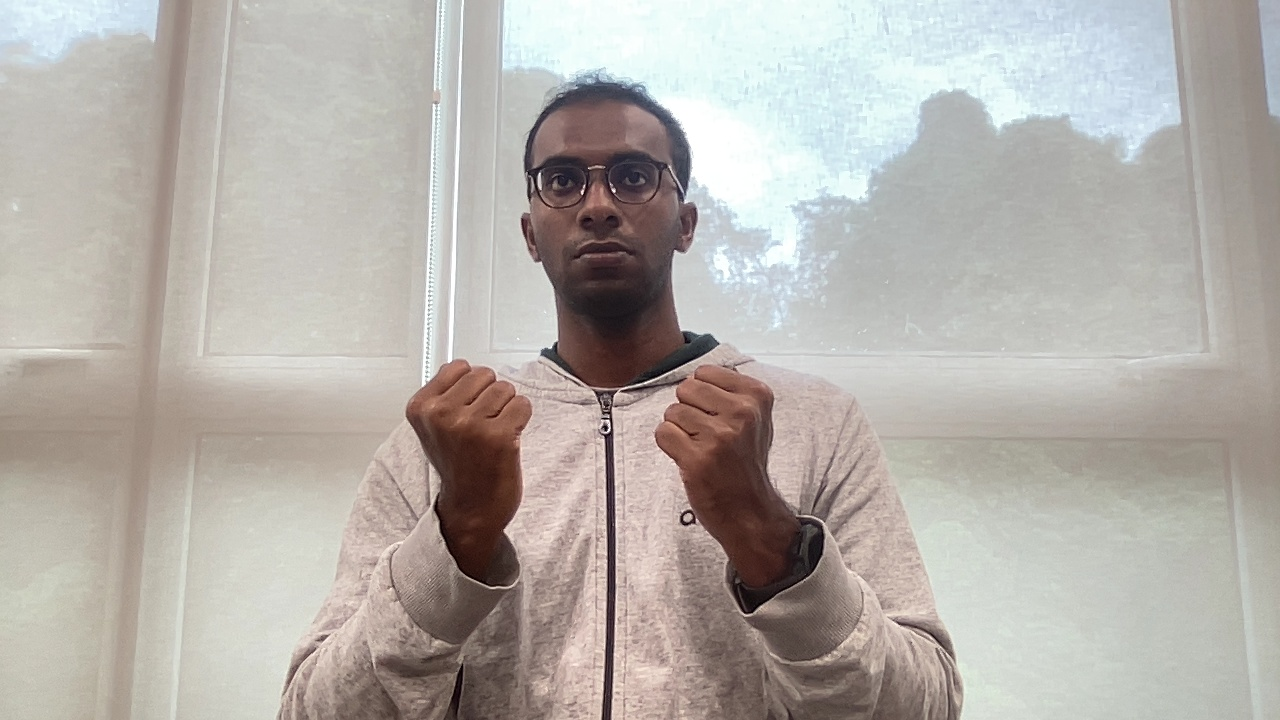finish: (403, 350, 786, 498)
